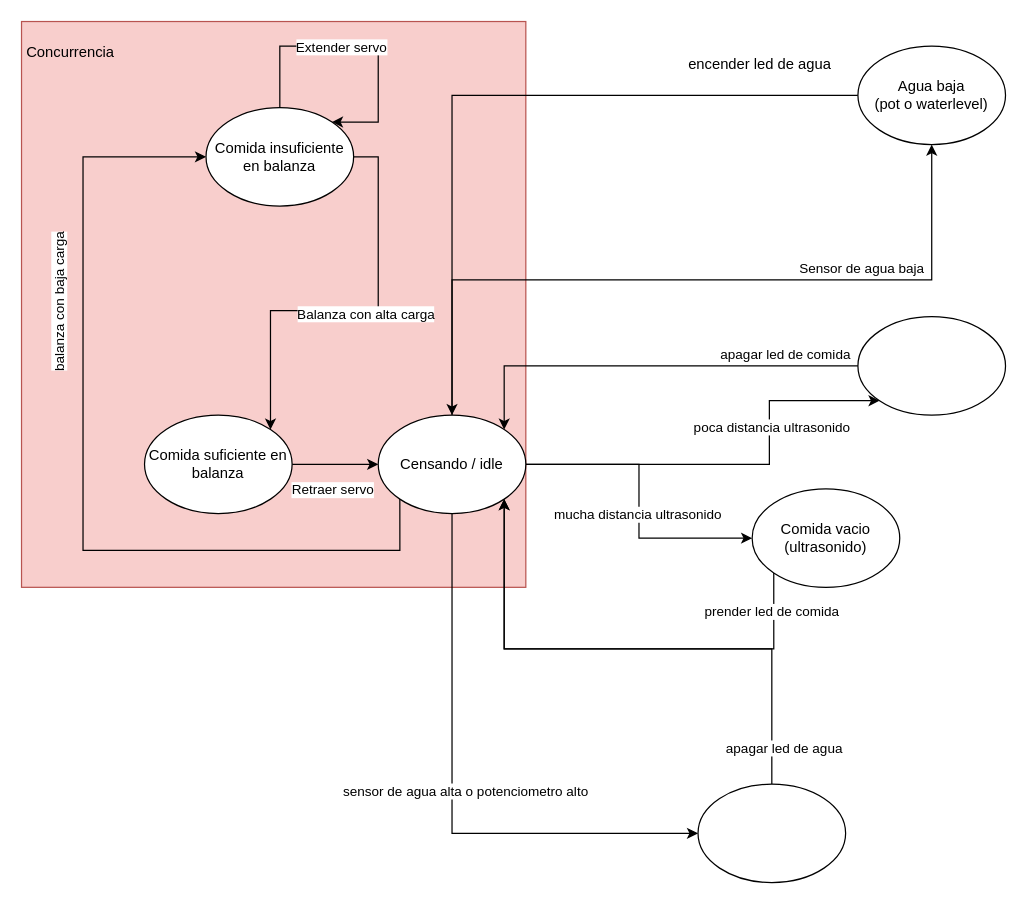
This 1027x904 diagram has some shape labels left out. Each missing label, with the box of its shape:
Agua alta (pot o waterlevel): (697, 783, 846, 883)
Comida llena (ultrasonido): (857, 315, 1006, 415)
